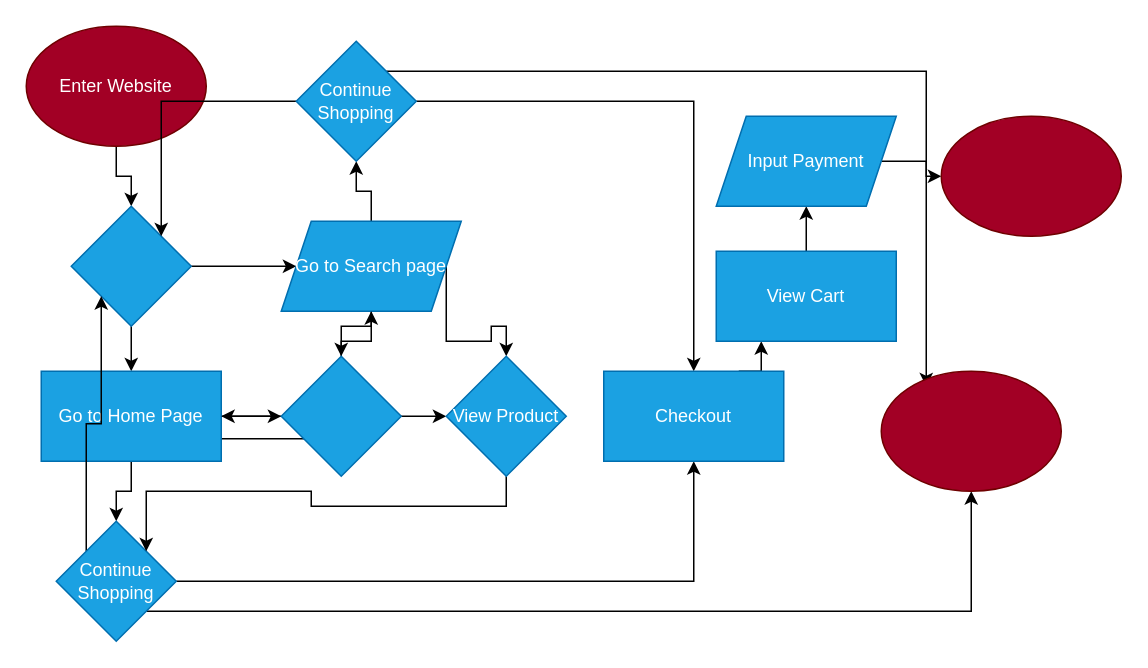
This 1148x668 diagram has some shape labels left out. Here are the shapes that lost their labels. From the top down, the box of each, then its label:
(940, 115, 1121, 236): Order Confirmation
(70, 205, 191, 326): Search?
(280, 355, 401, 476): Add To Cart
(880, 370, 1061, 491): Leave
